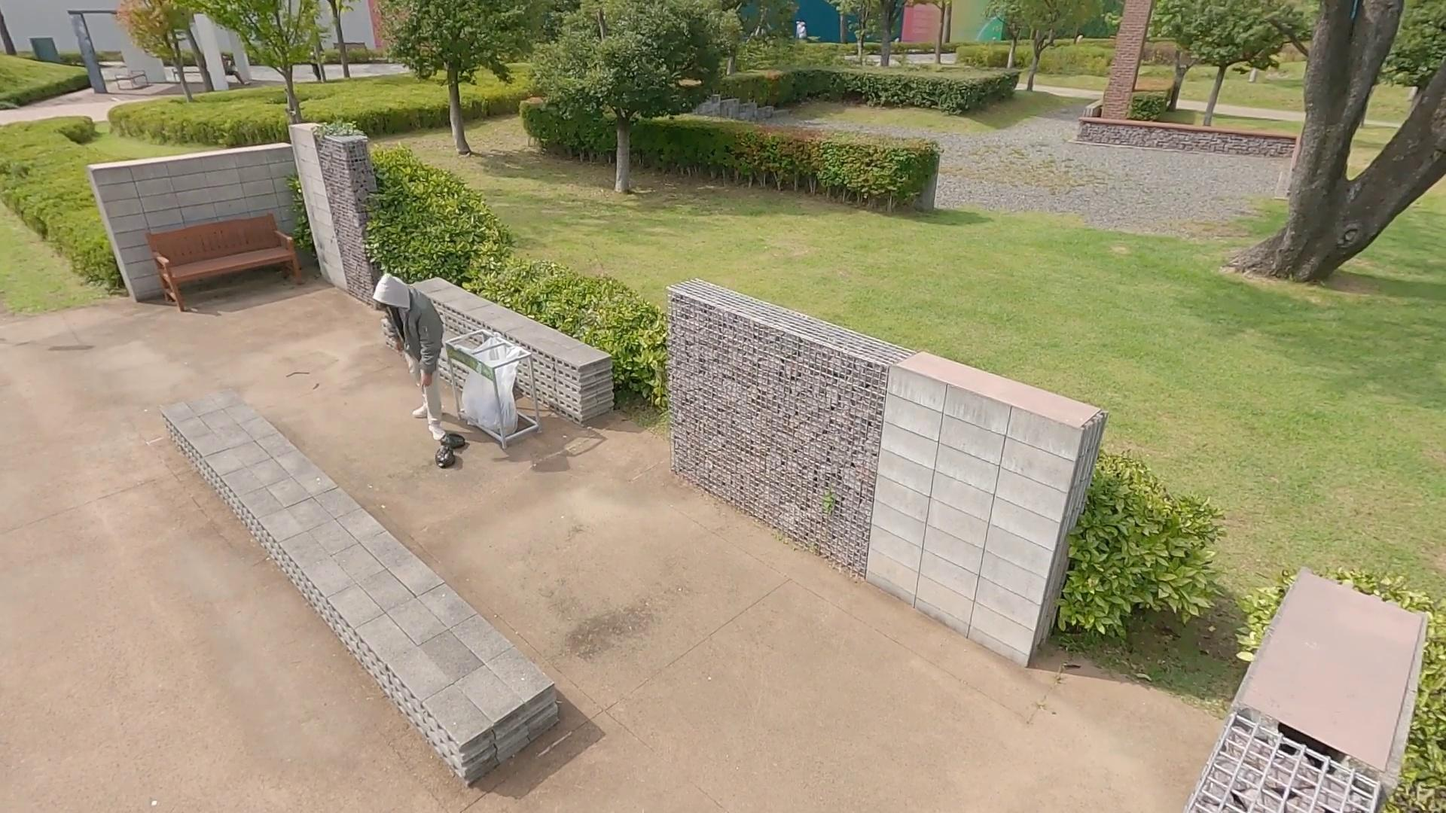trash: (374, 273, 446, 444), (439, 430, 466, 450), (434, 444, 455, 468)
